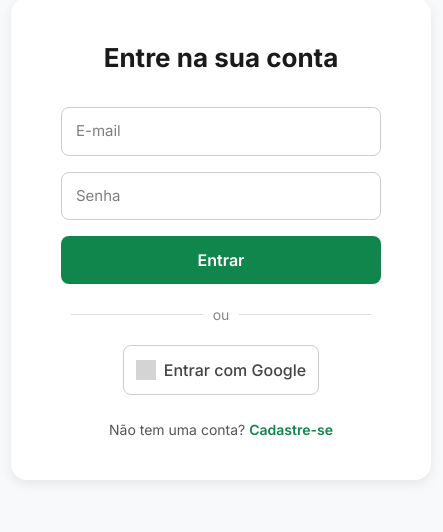
Scenario: Página de Login › deve realizar o login com sucesso e redirecionar
Type "admin@teste.com" into the field with placeholder "E-mail" at coordinates (221, 131), box x1=61 y1=107 x2=381 y2=156
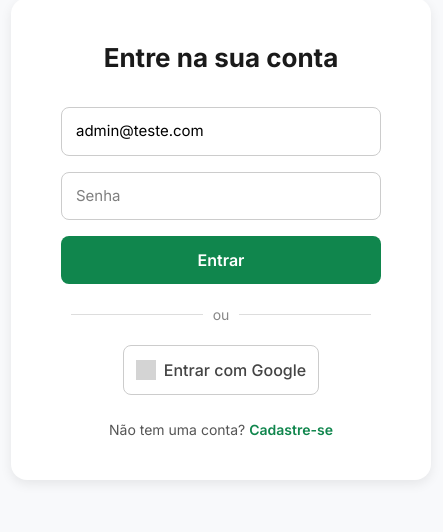
Type "12345678" into the password field with placeholder "Senha" at coordinates (221, 196), box x1=61 y1=172 x2=381 y2=220
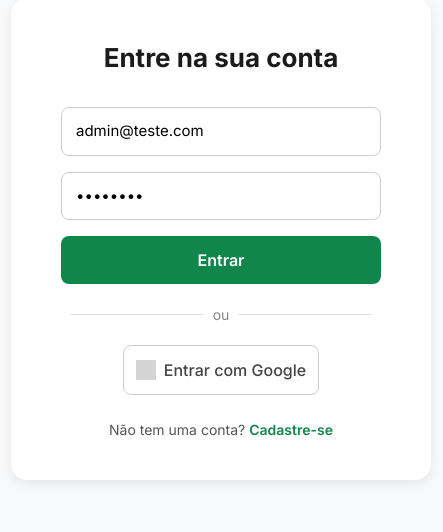
Click the button "Entrar" at coordinates (221, 260), box x1=61 y1=236 x2=381 y2=284
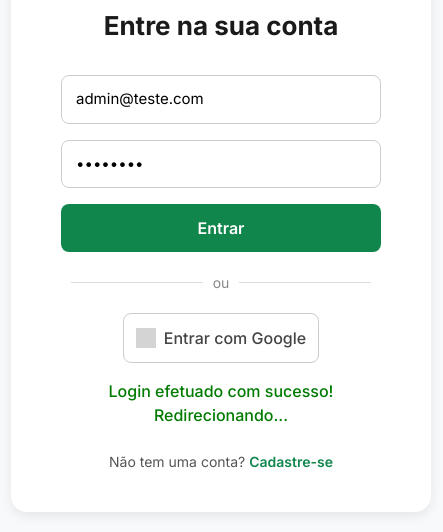
Expected: the text "Login efetuado com sucesso! Redirecionando..." is shown, x1=108 y1=381 x2=334 y2=425
